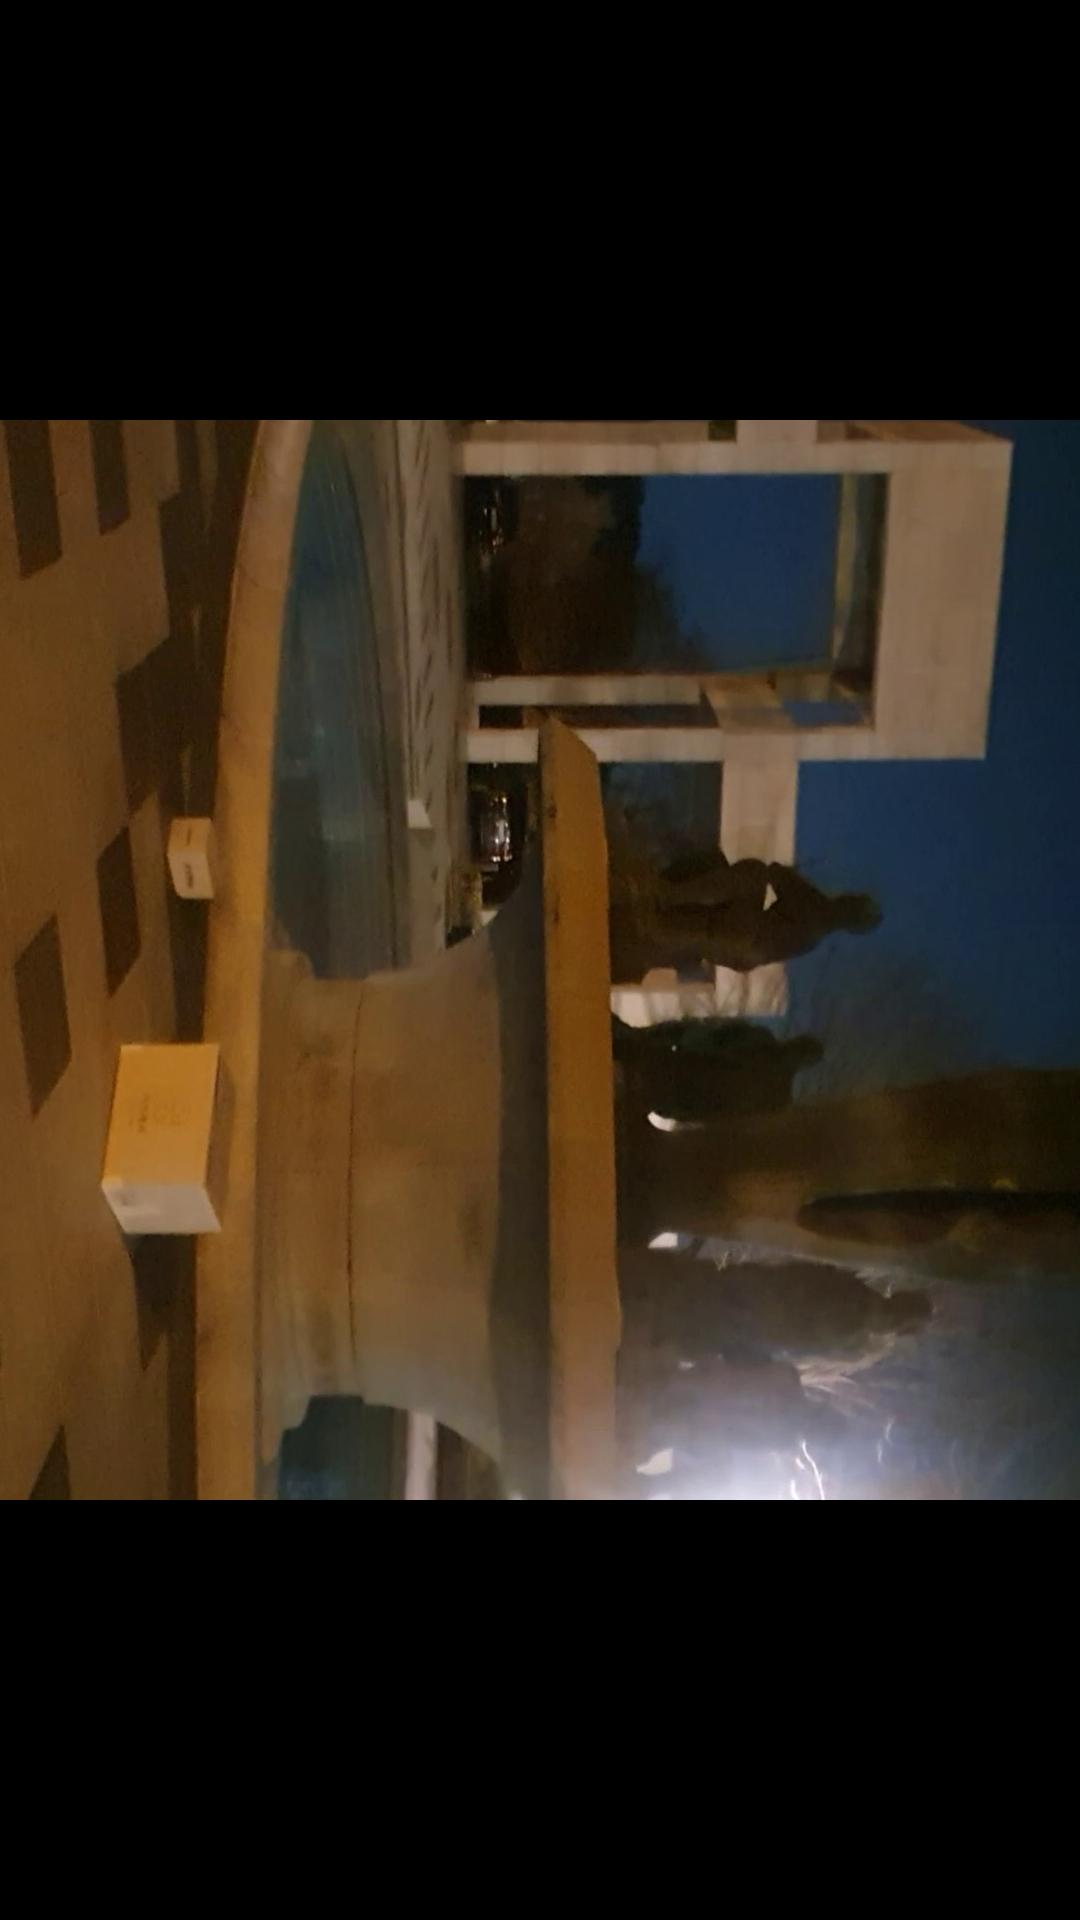Box: (94, 1043, 251, 1237), (164, 803, 225, 910)
